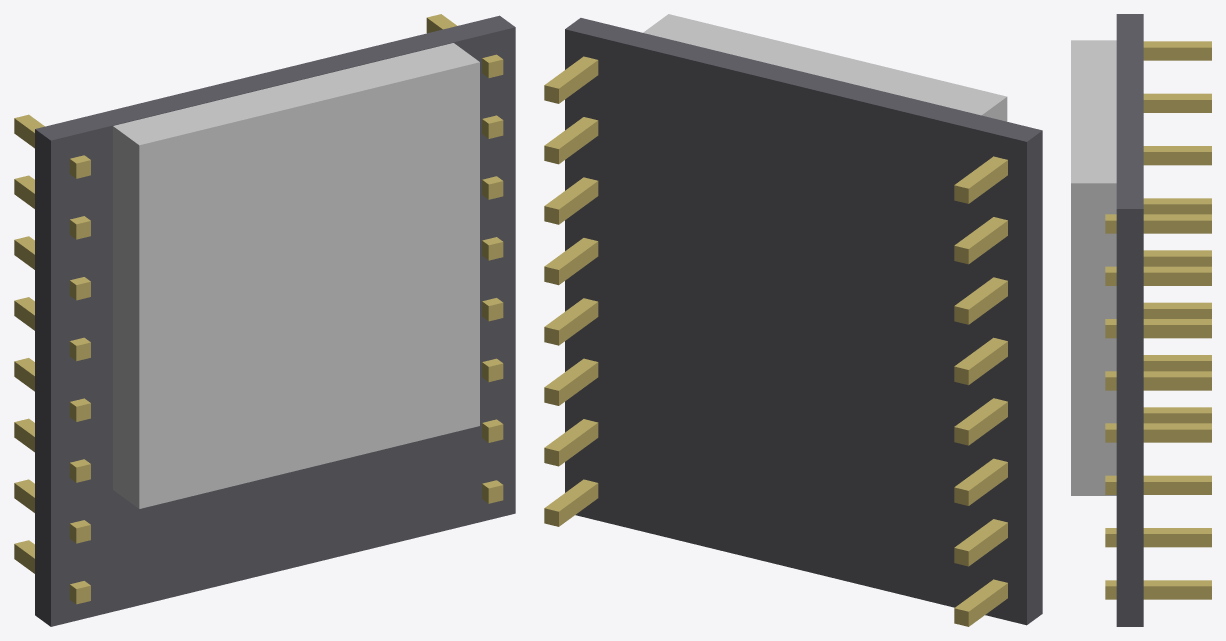
The model's file is dfplayer_mini.glb.
The picture shows the model from 3 angles, left to right: view 1: azimuth 30°, elevation 25°; view 2: azimuth 150°, elevation 25°; view 3: azimuth 270°, elevation 25°; orthographic projection. The views are drawn at different scales.
Parts seen in each view (by area): view 1: housing, extra, pins; view 2: extra, pins, housing; view 3: pins, housing, extra.
Part boxes in pixels (<box>): housing: <box>113,43,479,508</box>; extra: <box>35,15,515,626</box>; pins: <box>14,14,503,604</box>; extra: <box>565,18,1042,625</box>; pins: <box>544,56,1007,626</box>; housing: <box>643,14,1007,121</box>; pins: <box>1105,41,1211,599</box>; housing: <box>1071,40,1116,495</box>; extra: <box>1116,14,1143,626</box>.
Size of the model in its own units: 20.32 by 20.32 by 6.2.
